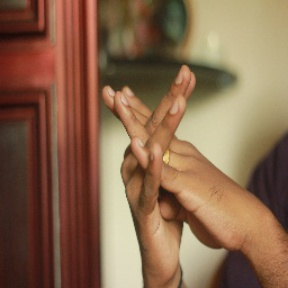W: (88, 59, 225, 225)
